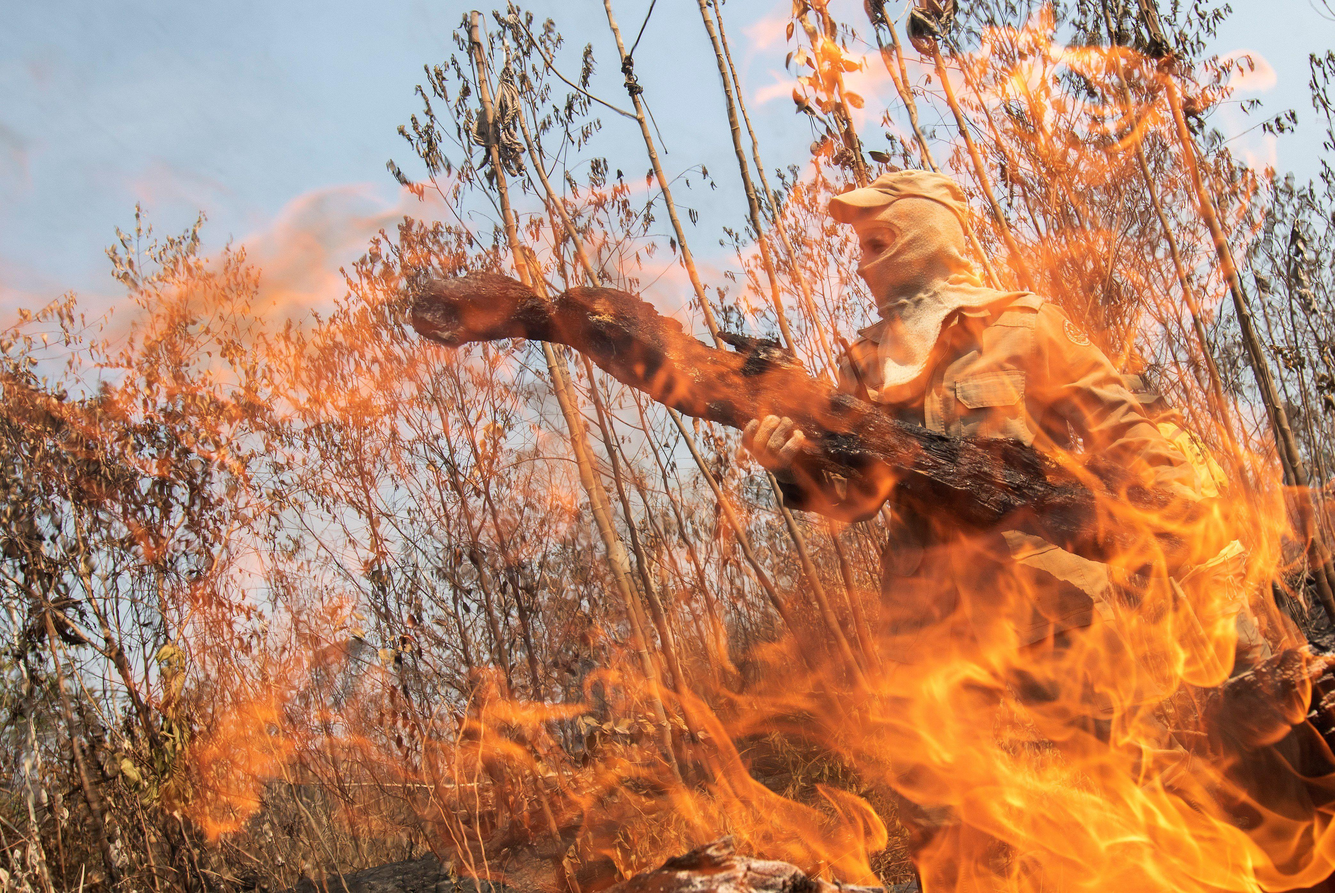victim: (728, 163, 1207, 857)
